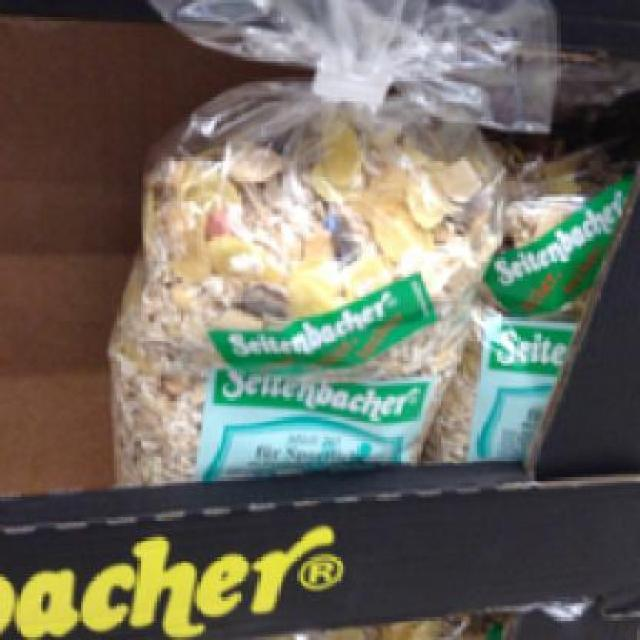Cereal: (109, 77, 498, 474)
